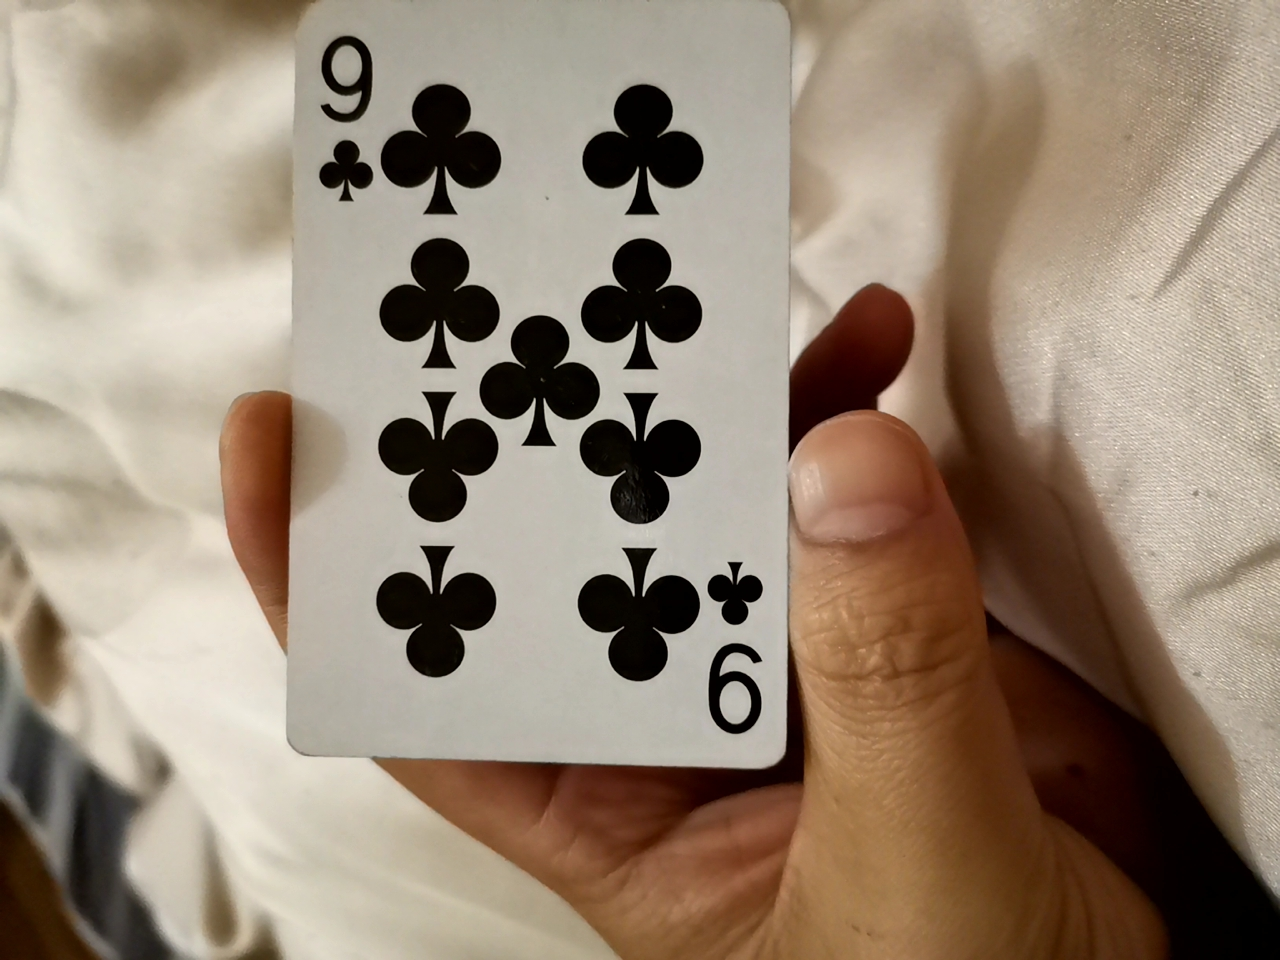mh 9: (248, 11, 850, 790)
